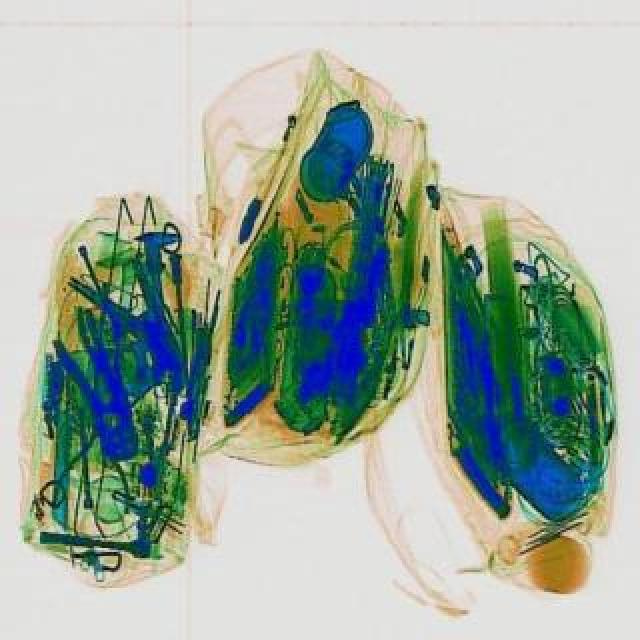wrench: (48, 320, 152, 468), (72, 296, 136, 398)
